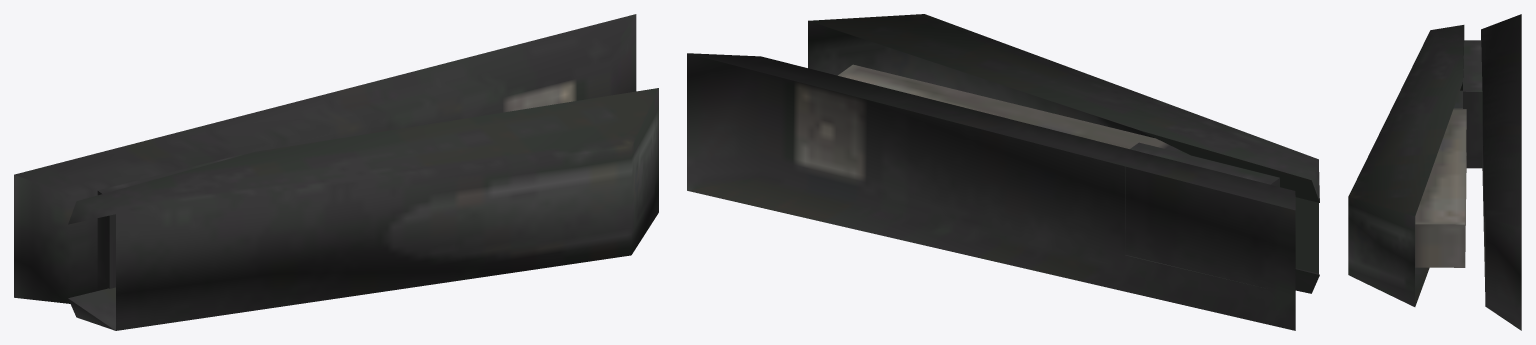
The model's file is p_rus_stapler_LOD2.obj.
3 views of the same model, side by side, from view 1: azimuth 30°, elevation 25°; view 2: azimuth 150°, elevation 25°; view 3: azimuth 270°, elevation 25° (orthographic). The views are drawn at different scales.
Parts seen in each view (by area): view 1: mtl_p_rus_stapler; view 2: mtl_p_rus_stapler; view 3: mtl_p_rus_stapler.
Boxes of the visible parts, x1=… form: mtl_p_rus_stapler: x1=14, y1=14, x2=658, y2=330; mtl_p_rus_stapler: x1=687, y1=14, x2=1319, y2=330; mtl_p_rus_stapler: x1=1348, y1=14, x2=1521, y2=330.
Size of the model in its own units: 19.9 by 4.3 by 6.6.
